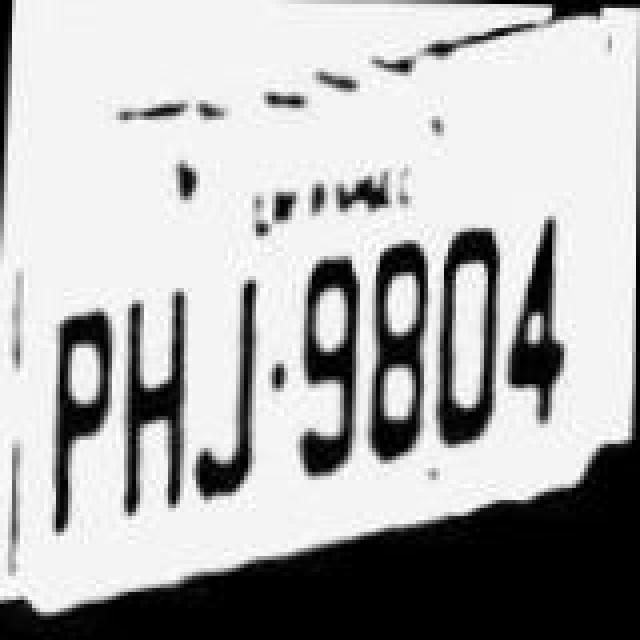4: (500, 190, 588, 458)
8: (362, 214, 446, 470)
9: (280, 228, 364, 512)
H: (104, 272, 192, 548)
J: (184, 252, 268, 520)
O: (430, 184, 514, 464)
P: (26, 284, 118, 556)
